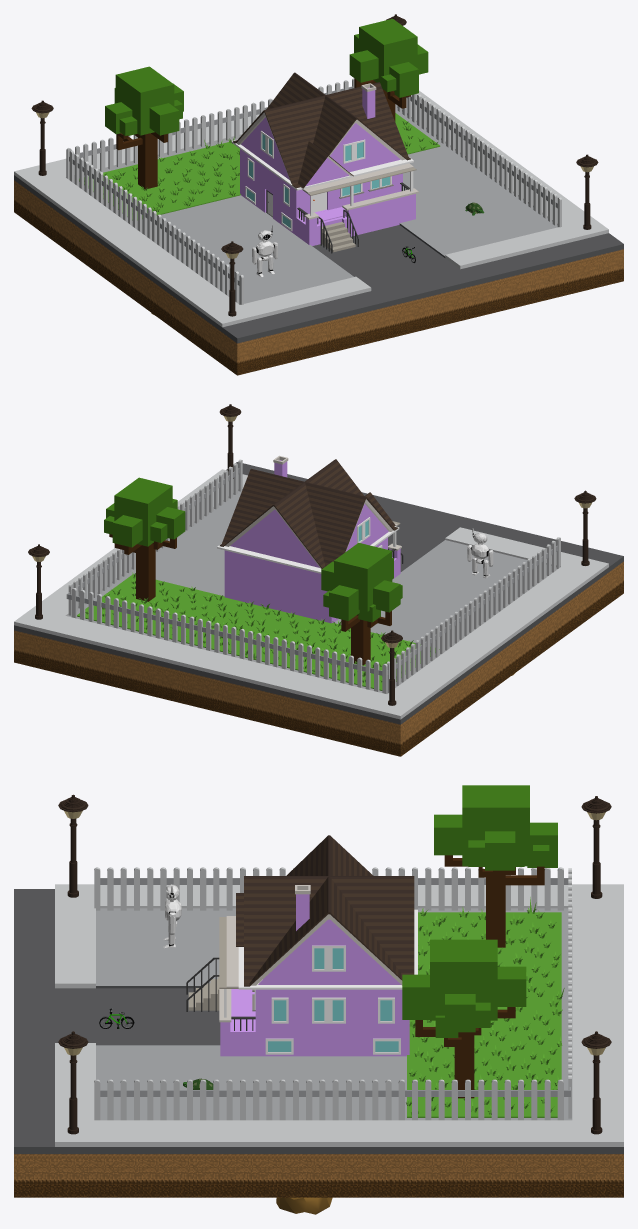
3 renders of one model, top to bottom at view 1: azimuth 30°, elevation 25°; view 2: azimuth 150°, elevation 25°; view 3: azimuth 270°, elevation 25°, orthographic. The views are drawn at different scales.
Visible parts, largest first — view 1: Cube.004, Cube.391, OBJRANDOM_PLATZEEBOT; view 2: Cube.004, Cube.391, OBJRANDOM_PLATZEEBOT; view 3: Cube.004, Cube.391, UNDERGROUND_T_REX_BONES, OBJRANDOM_PLATZEEBOT.
Part boxes in pixels (x1=…): Cube.004: x1=14, y1=14, x2=623, y2=375; Cube.391: x1=231, y1=72, x2=418, y2=253; OBJRANDOM_PLATZEEBOT: x1=252, y1=225, x2=278, y2=276; Cube.004: x1=14, y1=404, x2=623, y2=756; Cube.391: x1=217, y1=455, x2=403, y2=623; OBJRANDOM_PLATZEEBOT: x1=467, y1=528, x2=493, y2=578; Cube.004: x1=14, y1=785, x2=623, y2=1197; Cube.391: x1=186, y1=835, x2=417, y2=1056; UNDERGROUND_T_REX_BONES: x1=276, y1=1197, x2=332, y2=1214; OBJRANDOM_PLATZEEBOT: x1=163, y1=884, x2=181, y2=948.
Size of the model in its own units: 4000 by 1714 by 4000.
Materials: 36 (3 with a texture image).
